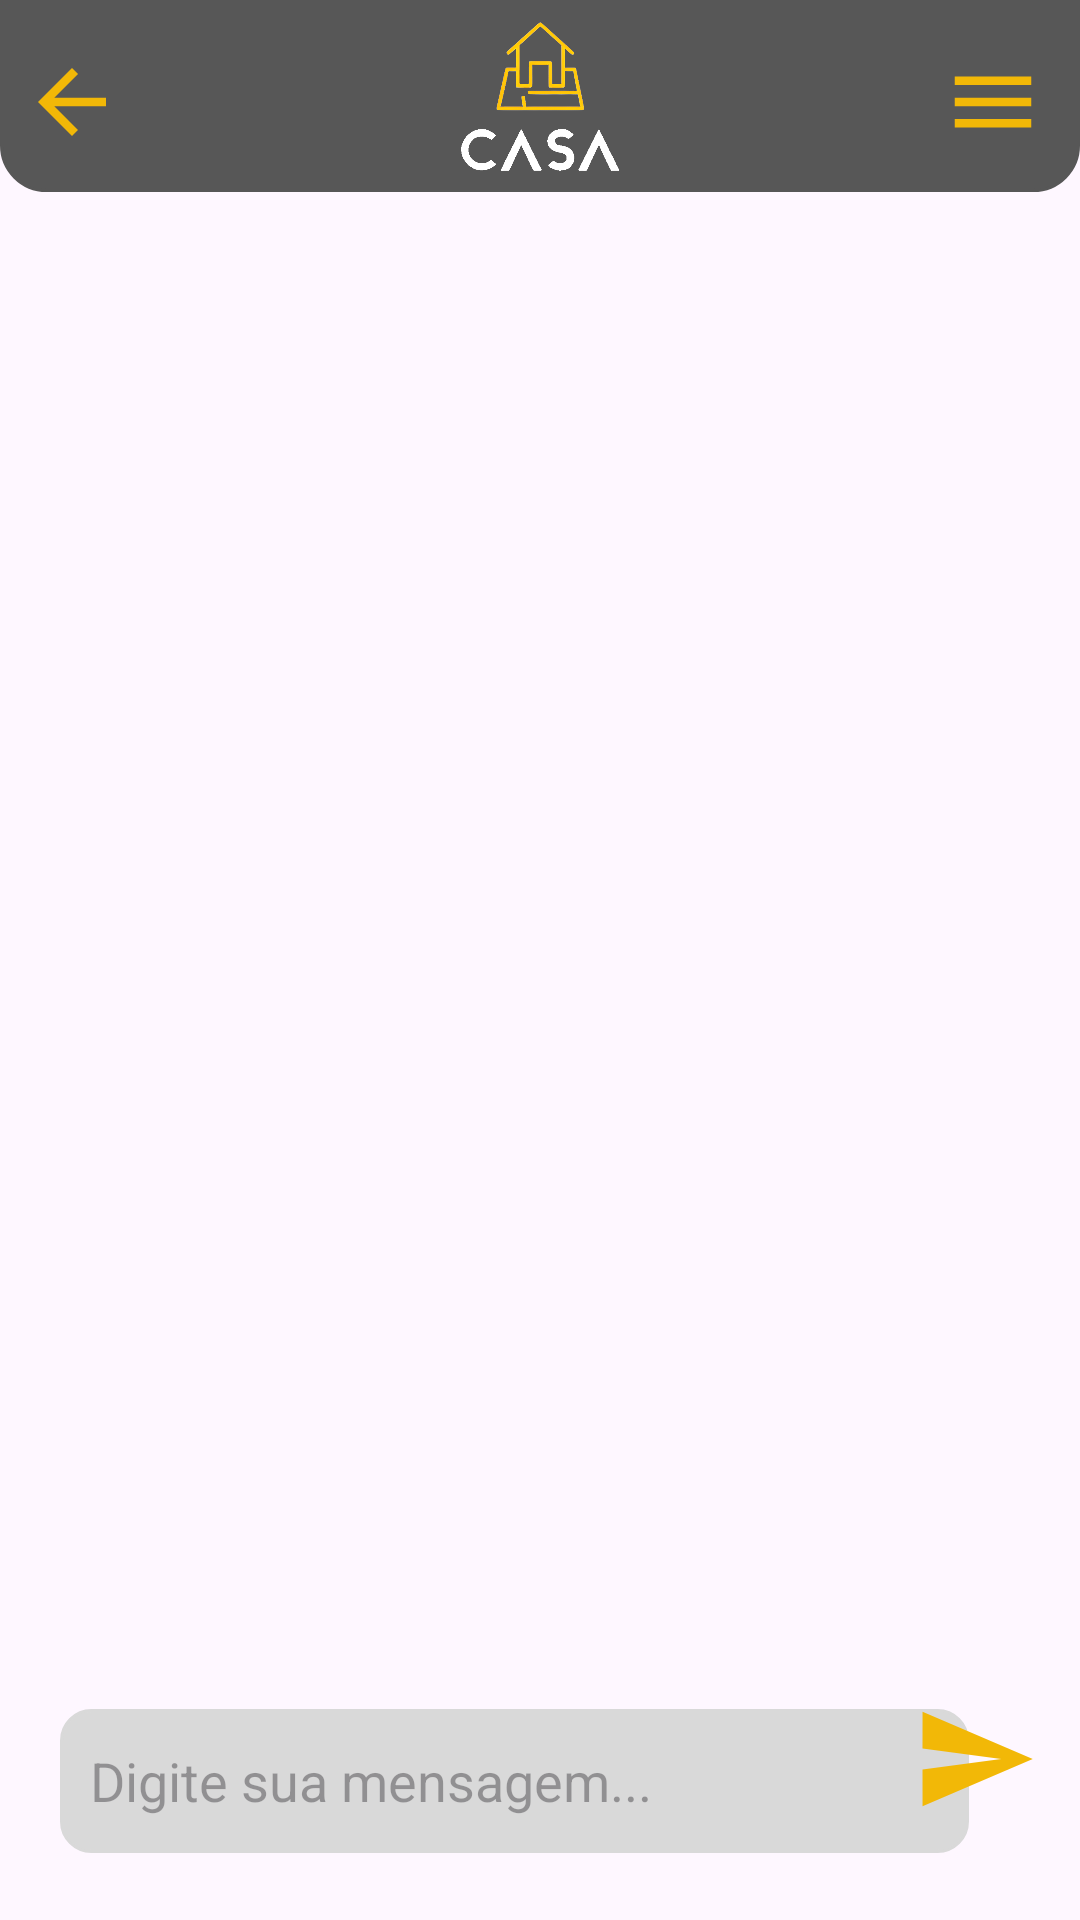

Screen size 1080 × 1920. Icon name, then its box in pixels as box=[x1, y1, x2, y2]:
arrow back: box=[38, 68, 106, 136]
Enviar: box=[912, 1709, 1033, 1831]
menu: box=[954, 76, 1032, 128]
